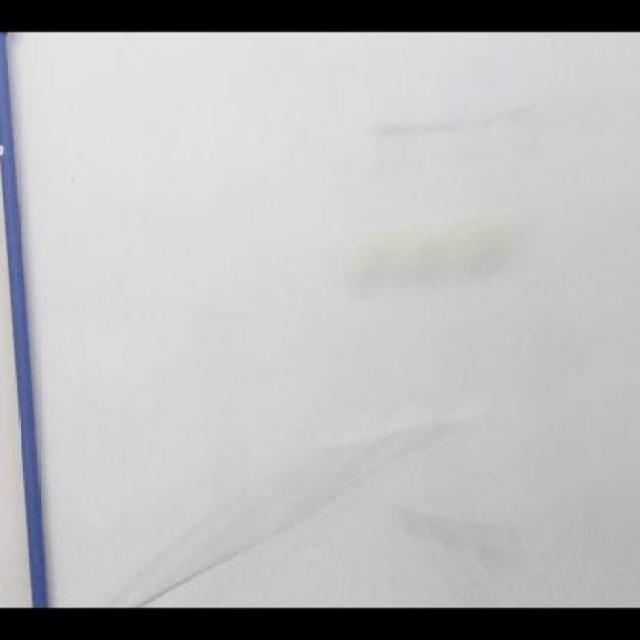baseball: (344, 204, 536, 288)
